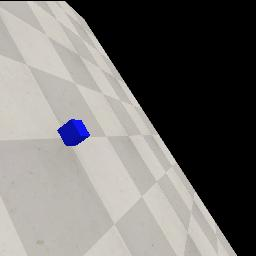box: (57, 119, 90, 146)
